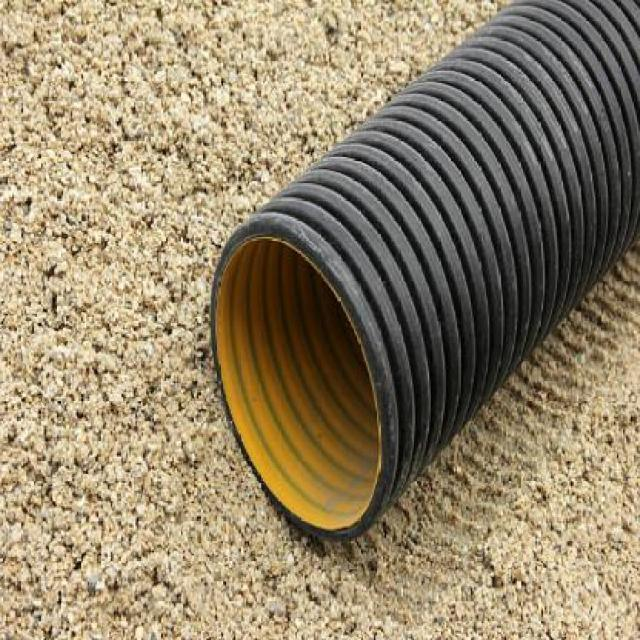pipe: (211, 220, 392, 540)
